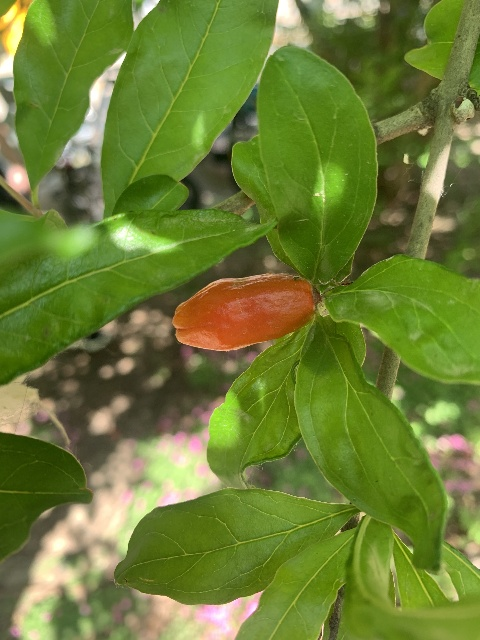bud: (171, 272, 315, 350)
